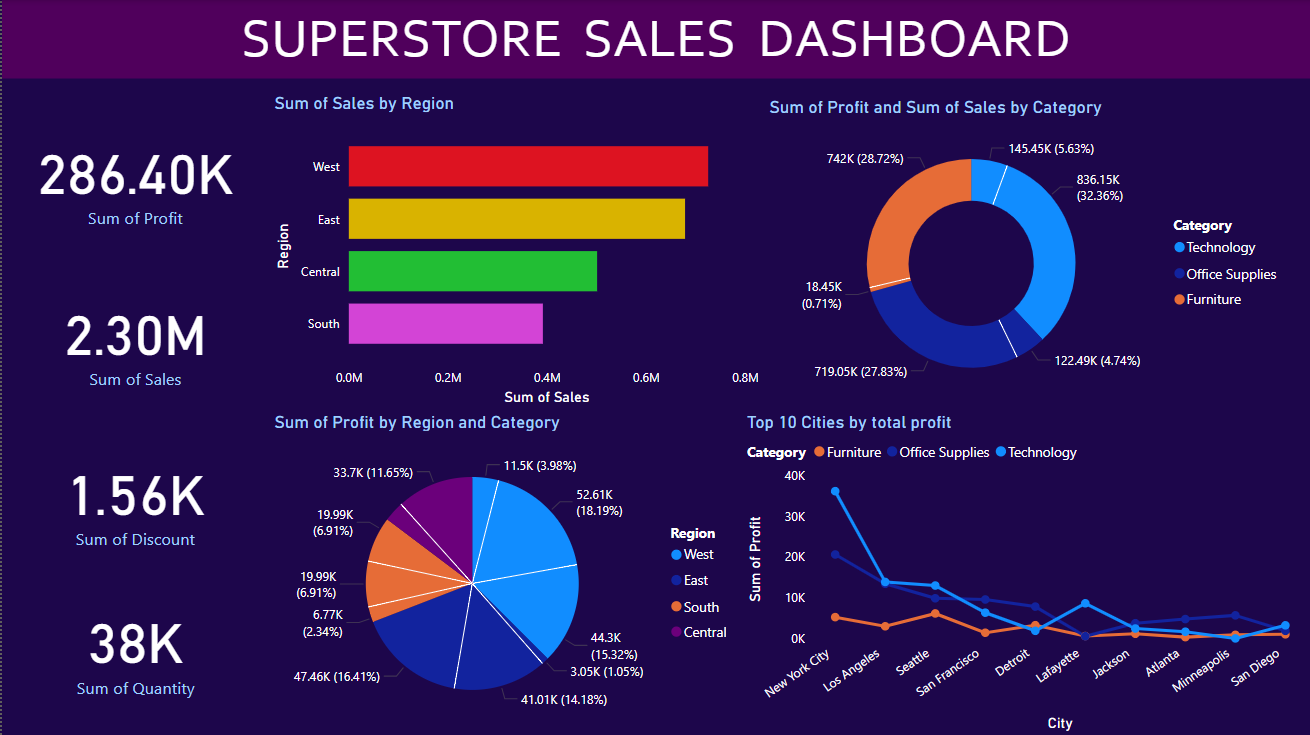

This screenshot's page, from the dashboard's own definition file:
{"tool":"powerbi","page":{"name":"Page 1","canvas":[1280,720],"ordinal":0},"visuals":[{"type":"textbox","box":[0,0,1280,77.1],"z":0},{"type":"card","fields":{"Values":["Sum(Superstore_Dataset.Profit)"]},"box":[0,101.8,261.5,145.9],"z":1000},{"type":"card","fields":{"Values":["Sum(Superstore_Dataset.Sales)"]},"box":[0,261.5,261.5,140.4],"z":2000},{"type":"barChart","fields":{"Y":["Sum(Superstore_Dataset.Sales)"],"Category":["Superstore_Dataset.Region"]},"box":[261.5,90.8,484.5,311.1],"z":3000},{"type":"donutChart","fields":{"Y":["Sum(Superstore_Dataset.Profit)","Sum(Superstore_Dataset.Sales)"],"Category":["Superstore_Dataset.Category"]},"box":[746,93.6,514.8,308.3],"z":4000},{"type":"card","fields":{"Values":["Sum(Superstore_Dataset.Discount)"]},"box":[0,415.7,261.5,145.9],"z":5000},{"type":"pieChart","fields":{"Y":["Sum(Superstore_Dataset.Profit)"],"Category":["Superstore_Dataset.Region"],"Series":["Superstore_Dataset.Category"]},"box":[261.8,401.9,462.1,318.1],"z":6000},{"type":"card","fields":{"Values":["Sum(Superstore_Dataset.Quantity)"]},"box":[0,548,262,172],"z":7000},{"type":"lineChart","title":"Top 10 Cities by total profit","fields":{"Category":["Superstore_Dataset.City"],"Series":["Superstore_Dataset.Category"],"Y":["Sum(Superstore_Dataset.Profit)"]},"box":[723.9,401.9,556.4,318.1],"z":8000}]}

Visuals, with their boxes in screenshot pixels (x1, y1, x2, y2), scaled from the page's 1280x720 canvas onto the 1310x735 screenshot:
textbox: <region>0, 0, 1309, 79</region>
card - Sum(Superstore_Dataset.Profit): <region>0, 104, 268, 253</region>
card - Sum(Superstore_Dataset.Sales): <region>0, 267, 268, 410</region>
barChart - Sum(Superstore_Dataset.Sales) x Superstore_Dataset.Region: <region>268, 93, 763, 410</region>
donutChart - Sum(Superstore_Dataset.Profit) x Sum(Superstore_Dataset.Sales): <region>763, 96, 1290, 410</region>
card - Sum(Superstore_Dataset.Discount): <region>0, 424, 268, 573</region>
pieChart - Sum(Superstore_Dataset.Profit) x Superstore_Dataset.Region: <region>268, 410, 741, 734</region>
card - Sum(Superstore_Dataset.Quantity): <region>0, 559, 268, 734</region>
"Top 10 Cities by total profit" lineChart: <region>741, 410, 1309, 734</region>
